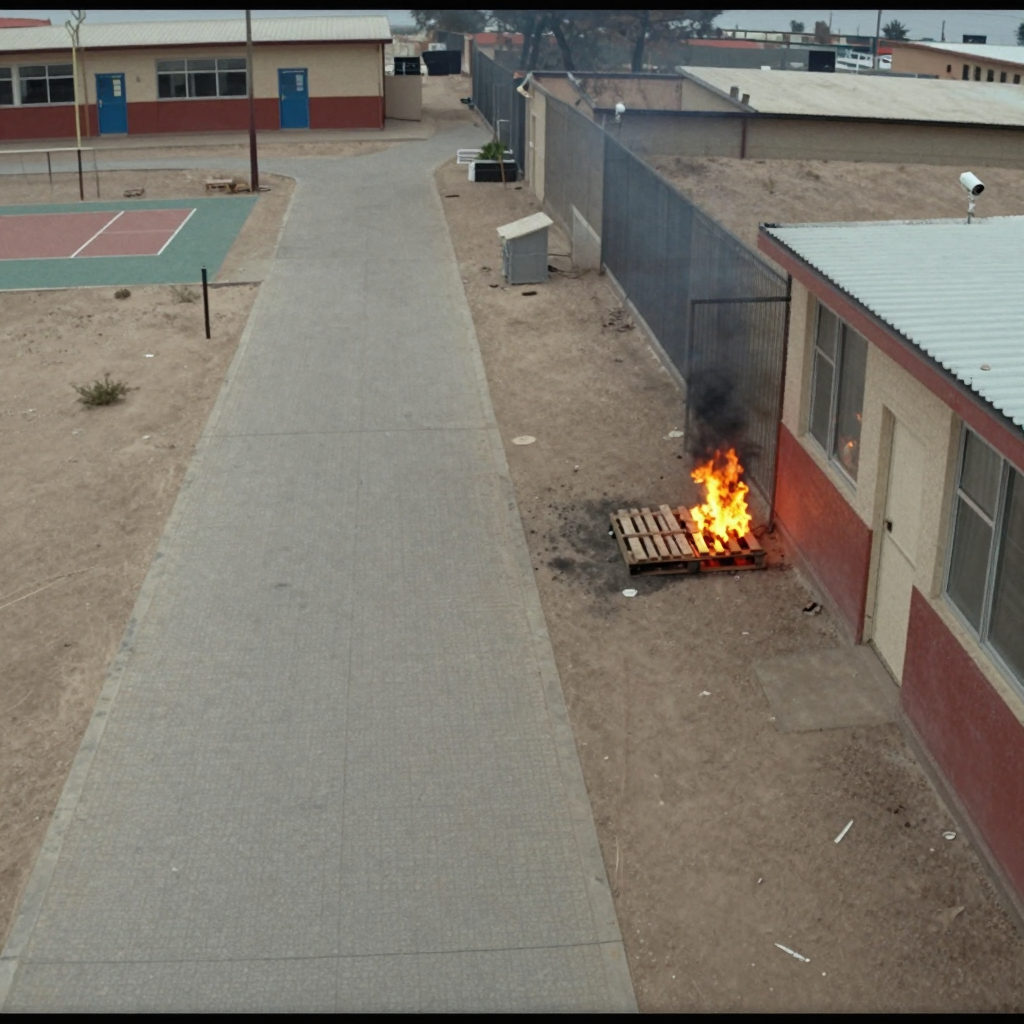Arson: (686, 455, 755, 547)
Explosion: (669, 310, 762, 447)
